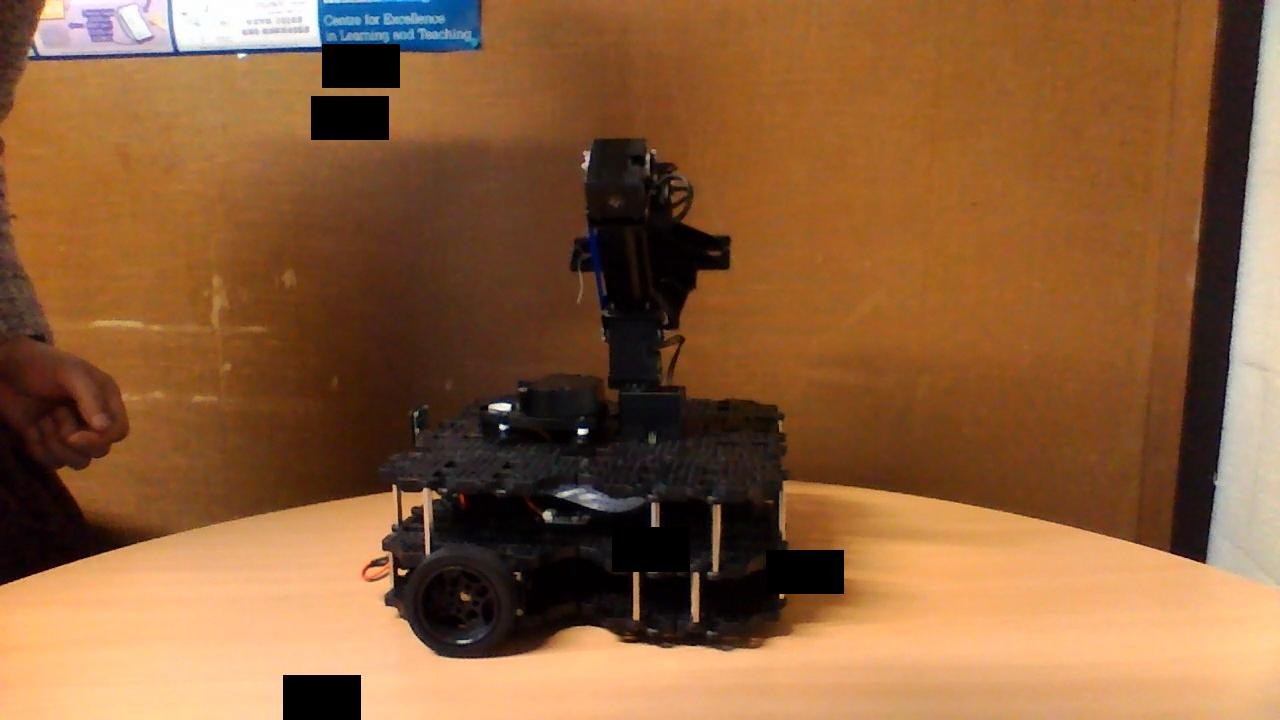Arm: (578, 130, 670, 361)
Hand: (565, 215, 741, 289)
base: (360, 371, 793, 661)
